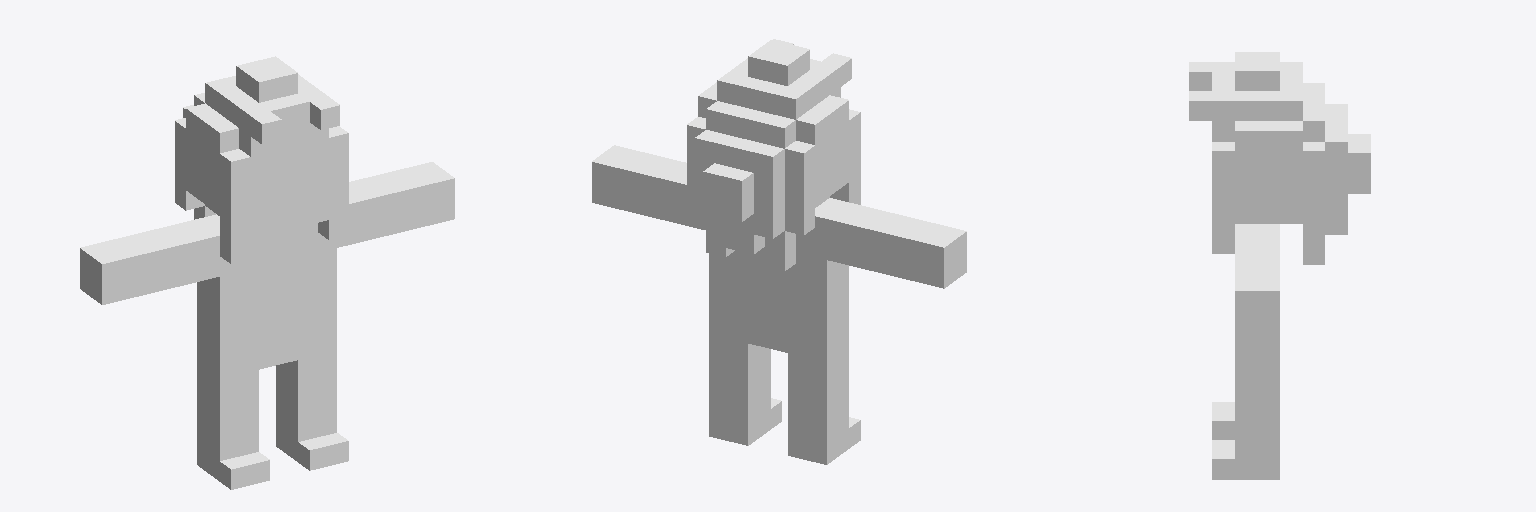
The model's file is girl.obj.
3 views of the same model, side by side, from view 1: azimuth 30°, elevation 25°; view 2: azimuth 150°, elevation 25°; view 3: azimuth 270°, elevation 25° (orthographic).
Parts seen in each view (by area): view 1: object 1; view 2: object 1; view 3: object 1.
Part boxes in pixels (left/top/right/bottom): object 1: left=80, top=56, right=454, bottom=489; object 1: left=592, top=39, right=966, bottom=464; object 1: left=1189, top=52, right=1370, bottom=479.
Bounding box in the file's own units: 1.8 × 1.9 × 0.8.